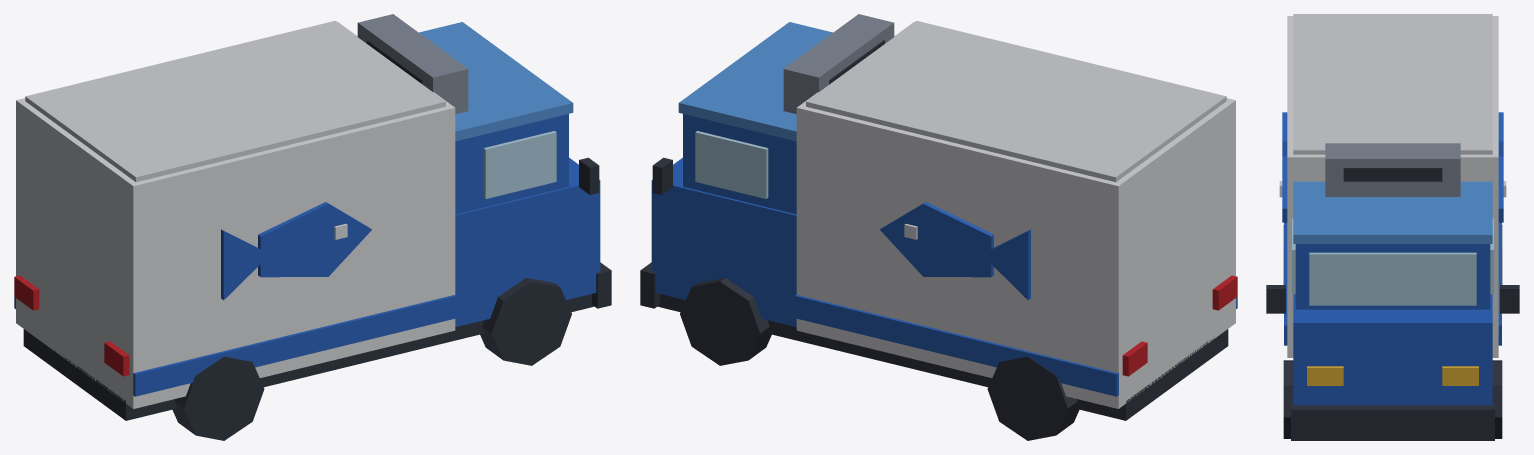
File: fish_van.glb
The picture shows the model from 3 angles, left to right: view 1: azimuth 30°, elevation 25°; view 2: azimuth 150°, elevation 25°; view 3: azimuth 270°, elevation 25°; orthographic projection. The views are drawn at different scales.
Visible parts, largest first — view 1: fish_van; view 2: fish_van; view 3: fish_van.
Part boxes in pixels (<box>): fish_van: <box>14,14,611,440</box>; fish_van: <box>640,14,1237,440</box>; fish_van: <box>1266,14,1519,440</box>.
Size of the model in its own units: 4.11 by 2.34 by 2.06.
